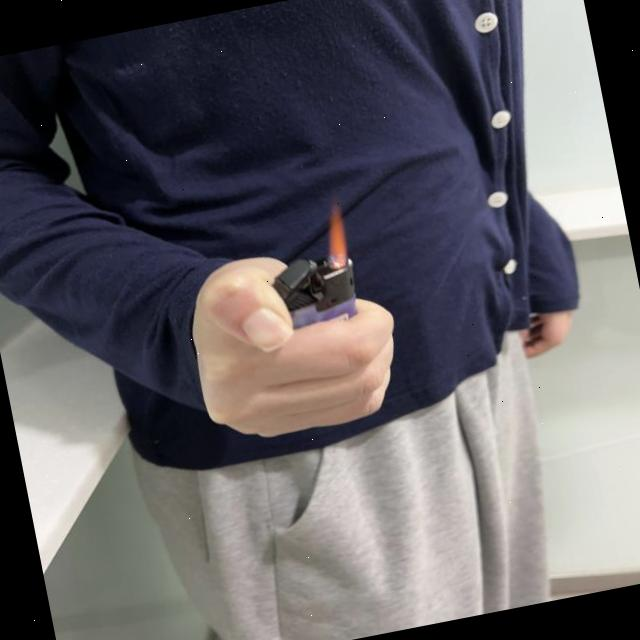fire: (321, 200, 354, 268)
